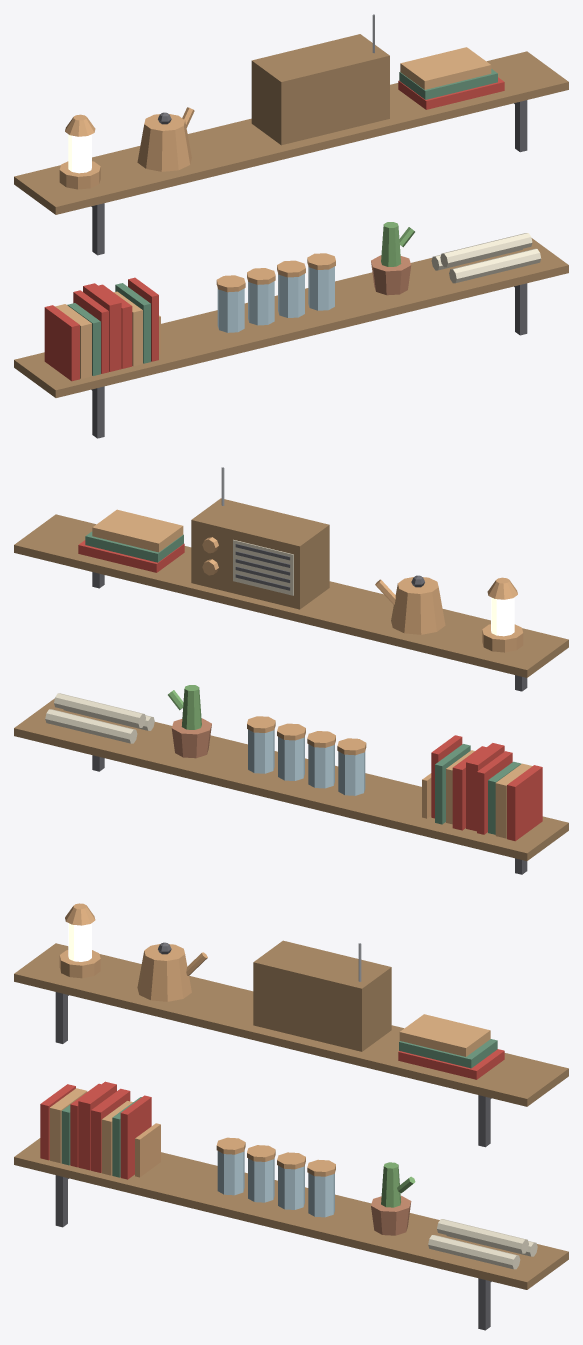
File: junk_shelf.glb
The picture shows the model from 3 angles, top to bottom: view 1: azimuth 30°, elevation 25°; view 2: azimuth 150°, elevation 25°; view 3: azimuth 330°, elevation 25°; orthographic projection.
Visible parts, largest first — view 1: JunkShelf; view 2: JunkShelf; view 3: JunkShelf.
Boxes of the visible parts, x1,y1,x2,y2 form: JunkShelf: [14, 14, 568, 438]; JunkShelf: [14, 467, 568, 874]; JunkShelf: [14, 903, 568, 1330].
Bounding box in the file's own units: 1.7 × 1.09 × 0.24.
